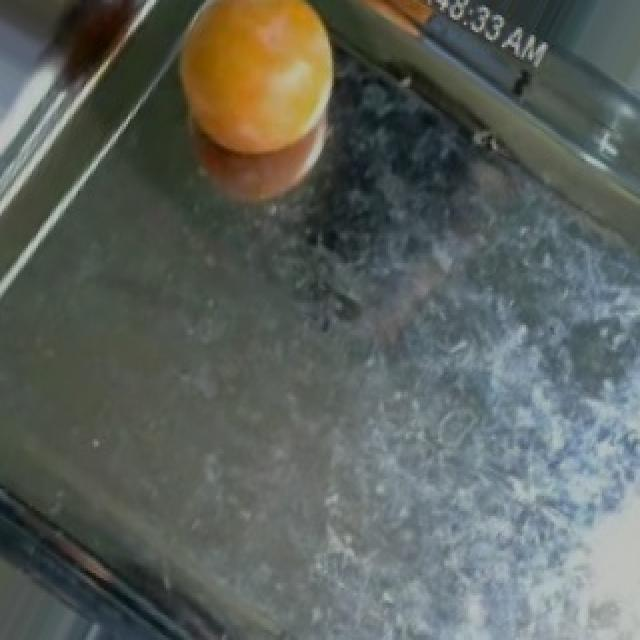Fruit: (152, 0, 364, 226), (278, 0, 468, 47)
